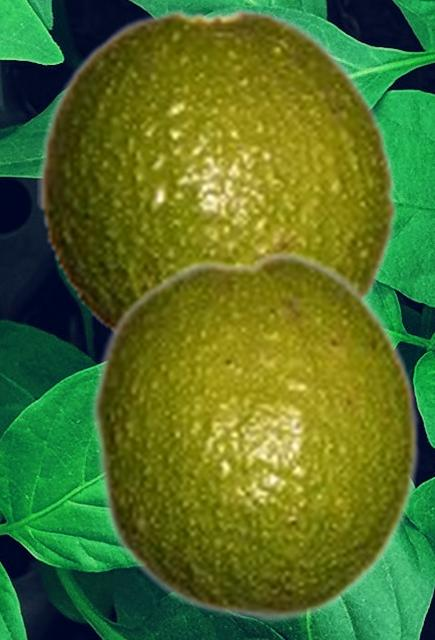avocado: (89, 248, 421, 624), (37, 7, 400, 335)
